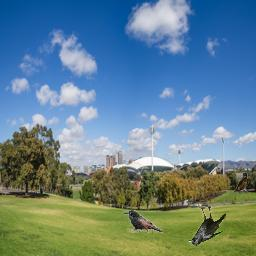Crow: (187, 206, 226, 246), (123, 210, 163, 233)
Swallow: (234, 172, 248, 194)
